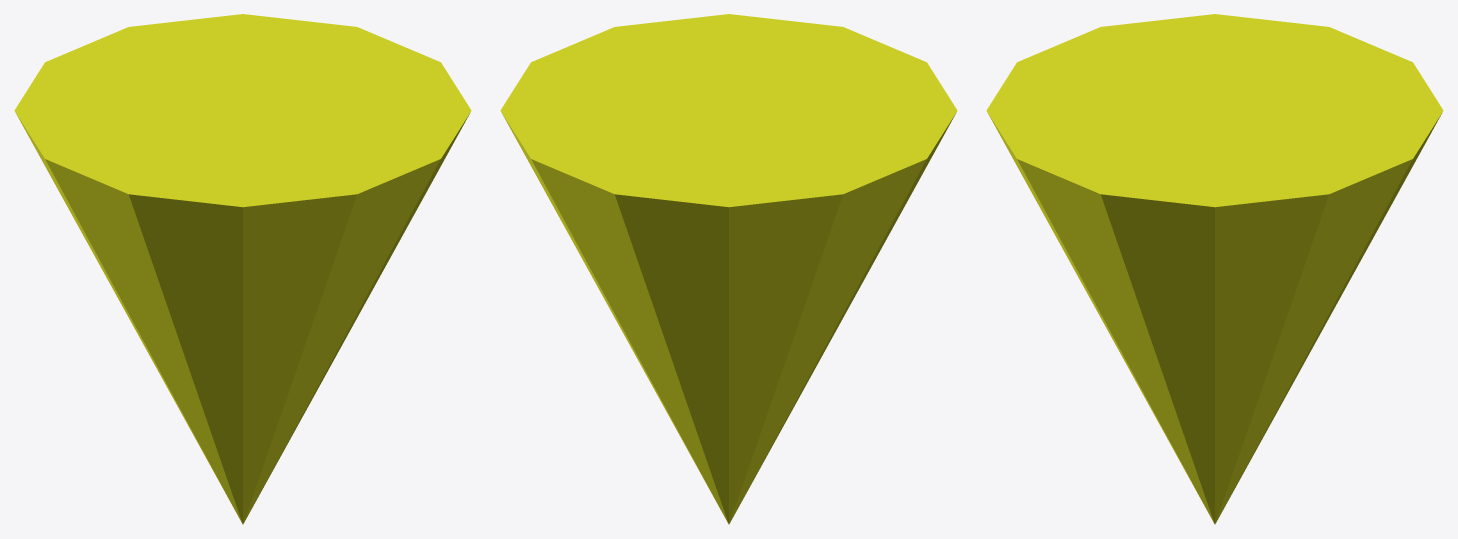
File: Sharp Drop.fbx
3 views of the same model, side by side, from view 1: azimuth 30°, elevation 25°; view 2: azimuth 150°, elevation 25°; view 3: azimuth 270°, elevation 25° (orthographic).
Parts seen in each view (by area): view 1: Sharp Drop; view 2: Sharp Drop; view 3: Sharp Drop.
Boxes of the visible parts, x1,y1,x2,y2 form: Sharp Drop: (14, 14, 471, 524); Sharp Drop: (500, 14, 957, 524); Sharp Drop: (986, 14, 1443, 524).
Bounding box in the file's own units: 200 × 200 × 200.
